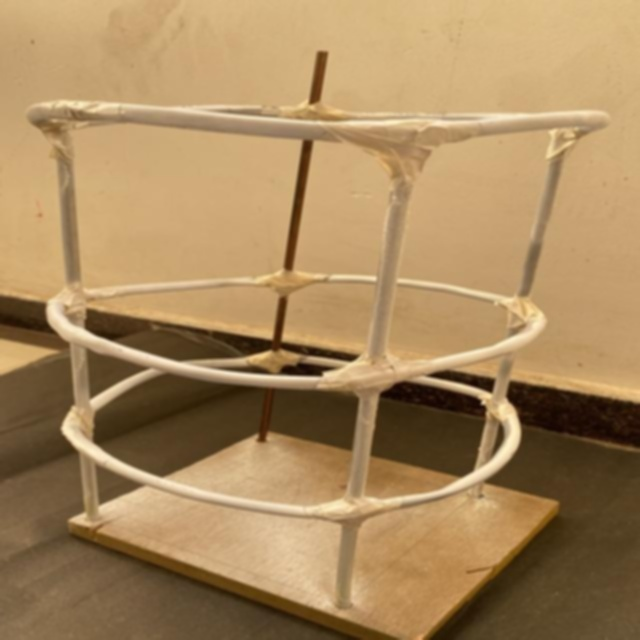silo: (0, 52, 626, 610)
